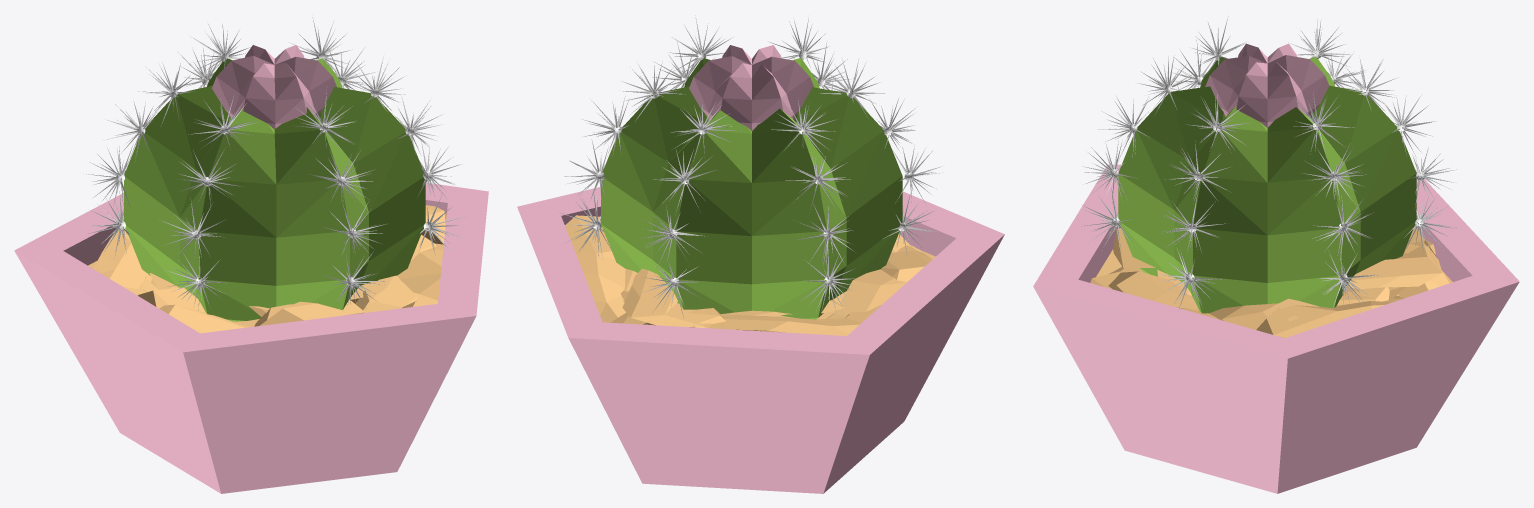
File: Captus_III.glb
3 views of the same model, side by side, from view 1: azimuth 30°, elevation 25°; view 2: azimuth 150°, elevation 25°; view 3: azimuth 270°, elevation 25° (orthographic).
Visible parts, largest first — view 1: Node; view 2: Node; view 3: Node.
Part boxes in pixels (<box>): Node: <box>14,17,488,493</box>; Node: <box>517,15,1004,493</box>; Node: <box>1033,16,1519,493</box>.
Size of the model in its own units: 0.685 by 0.6084 by 0.7053.
